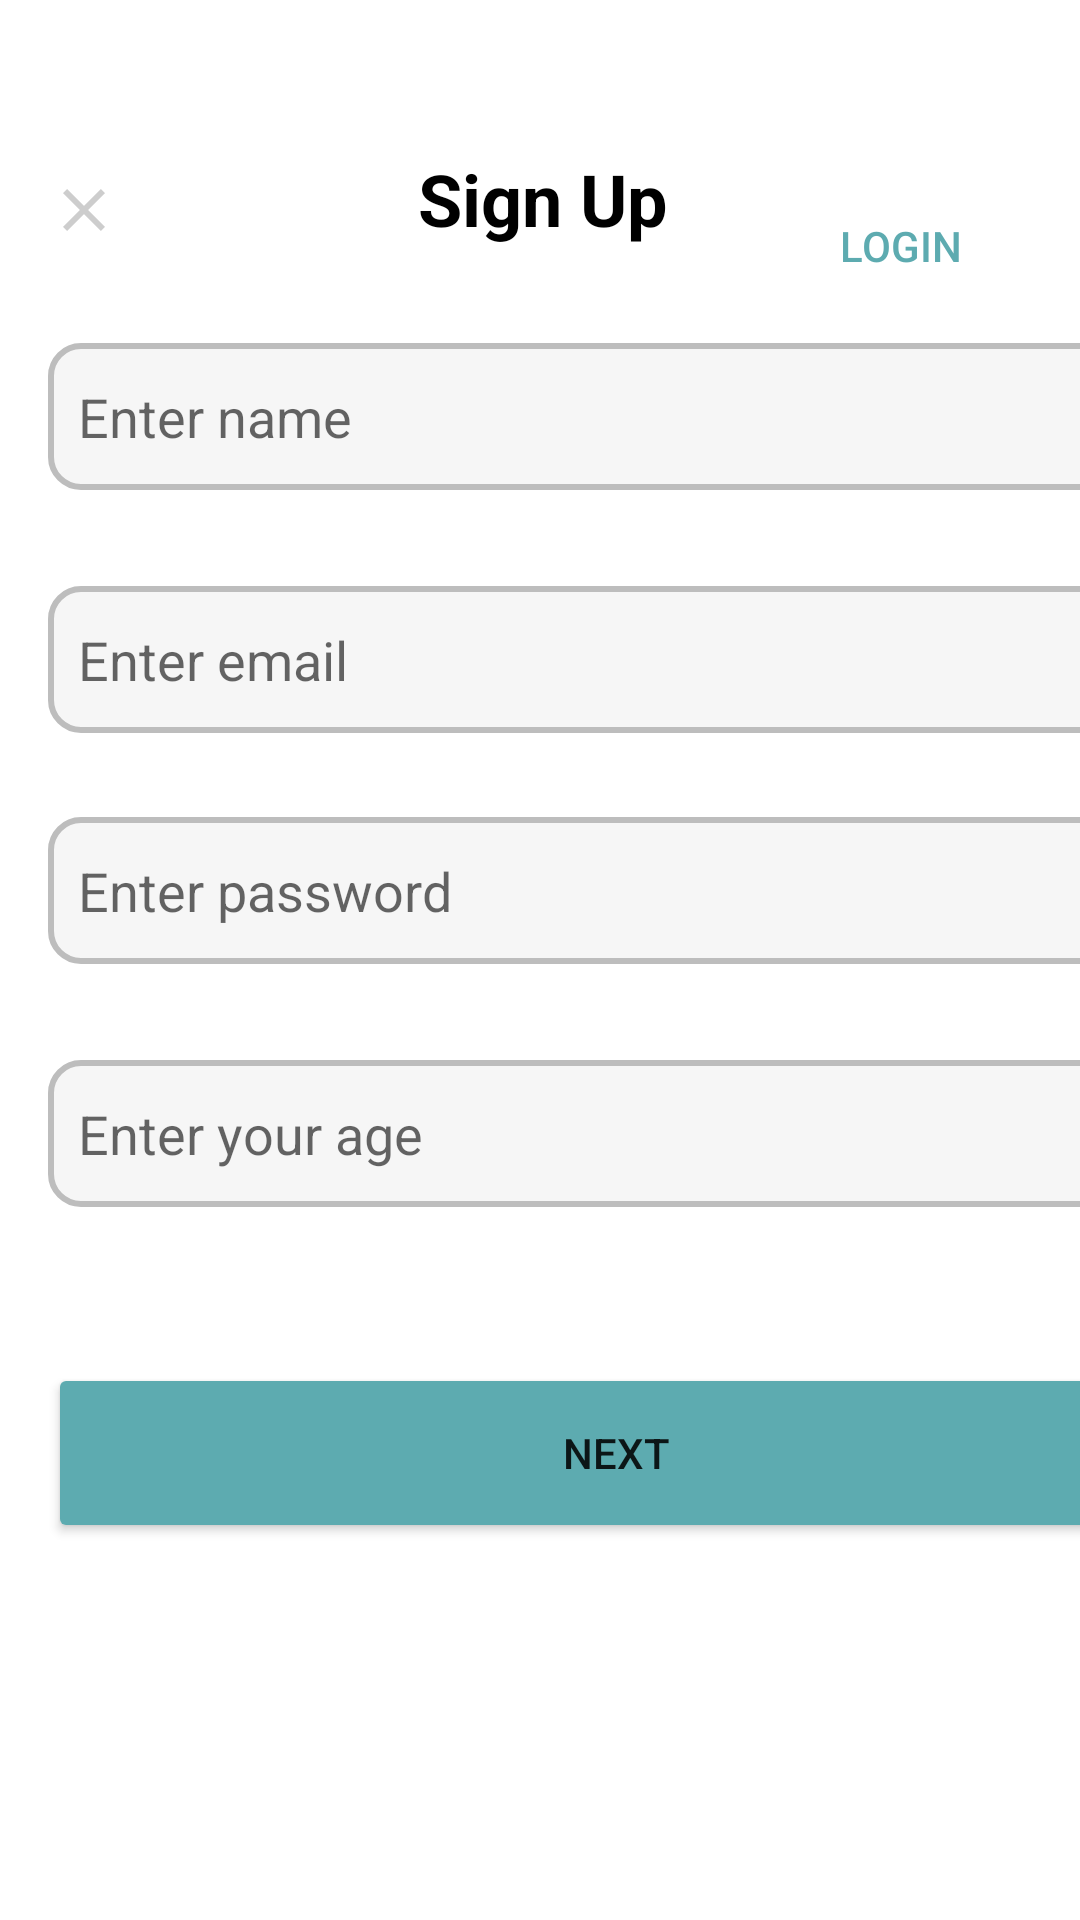

Icon click points for this 1080×1920 phone screenshot, format (x=x, y=y):
close: (x=84, y=210)
